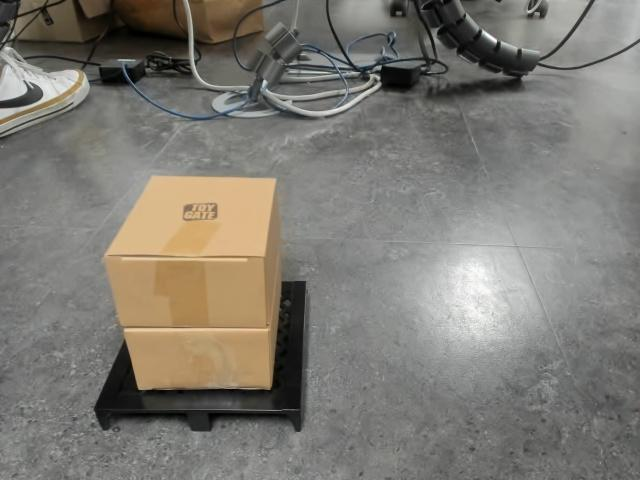box: (91, 174, 310, 433)
